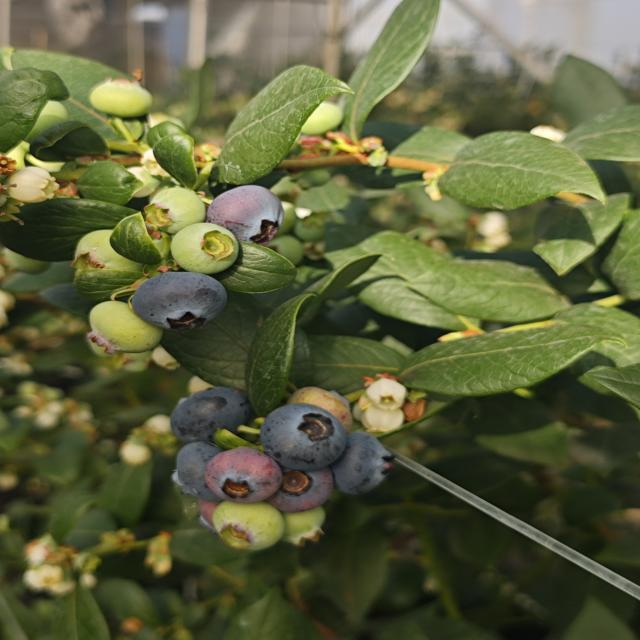ripe: (128, 270, 230, 335), (257, 402, 349, 472), (204, 184, 287, 246), (167, 392, 254, 438), (172, 439, 235, 498), (271, 468, 334, 513), (343, 432, 388, 489)
